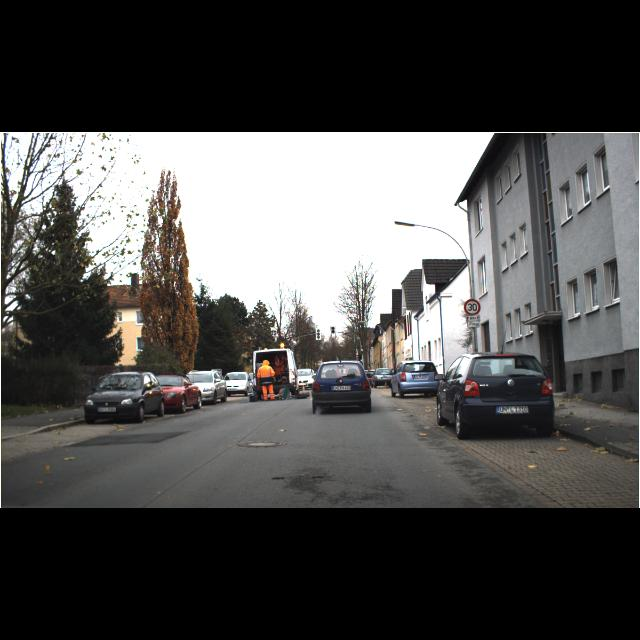prohibitory: (464, 299, 481, 315)
